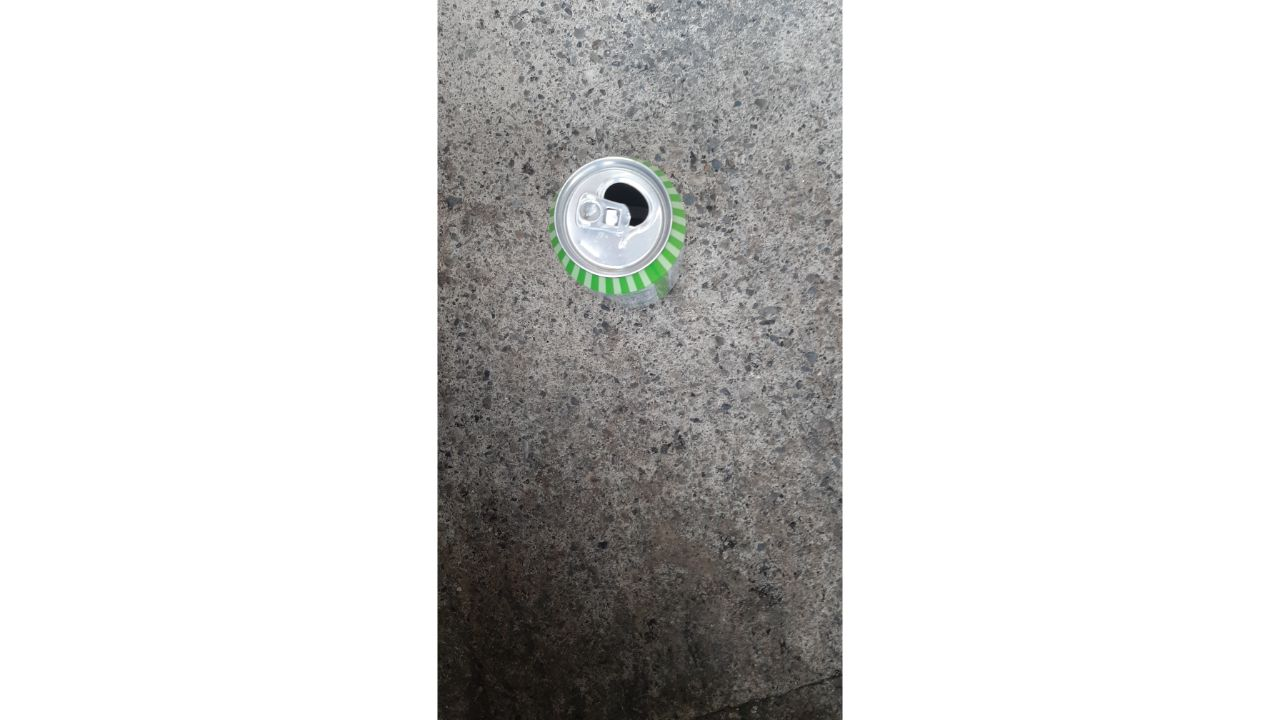Can: (537, 140, 704, 335)
